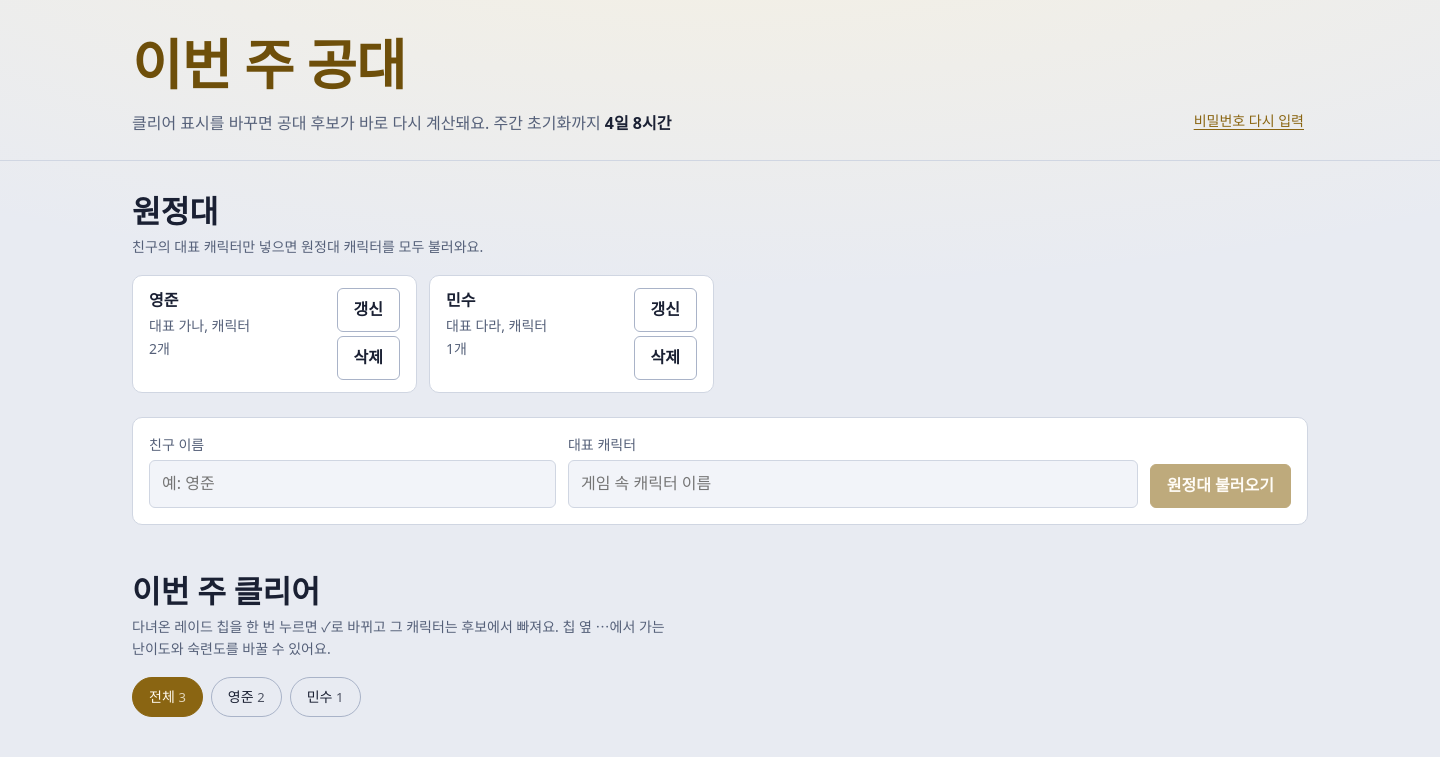
이번 주 클리어 친구 필터 › 새로 등록한 친구도 칩이 생기고, 선택한 친구를 삭제하면 전체로 돌아간다
Type "철수" into the field with placeholder "예: 영준". click: {"x": 352, "y": 484}
box: left=149, top=460, right=556, bottom=508
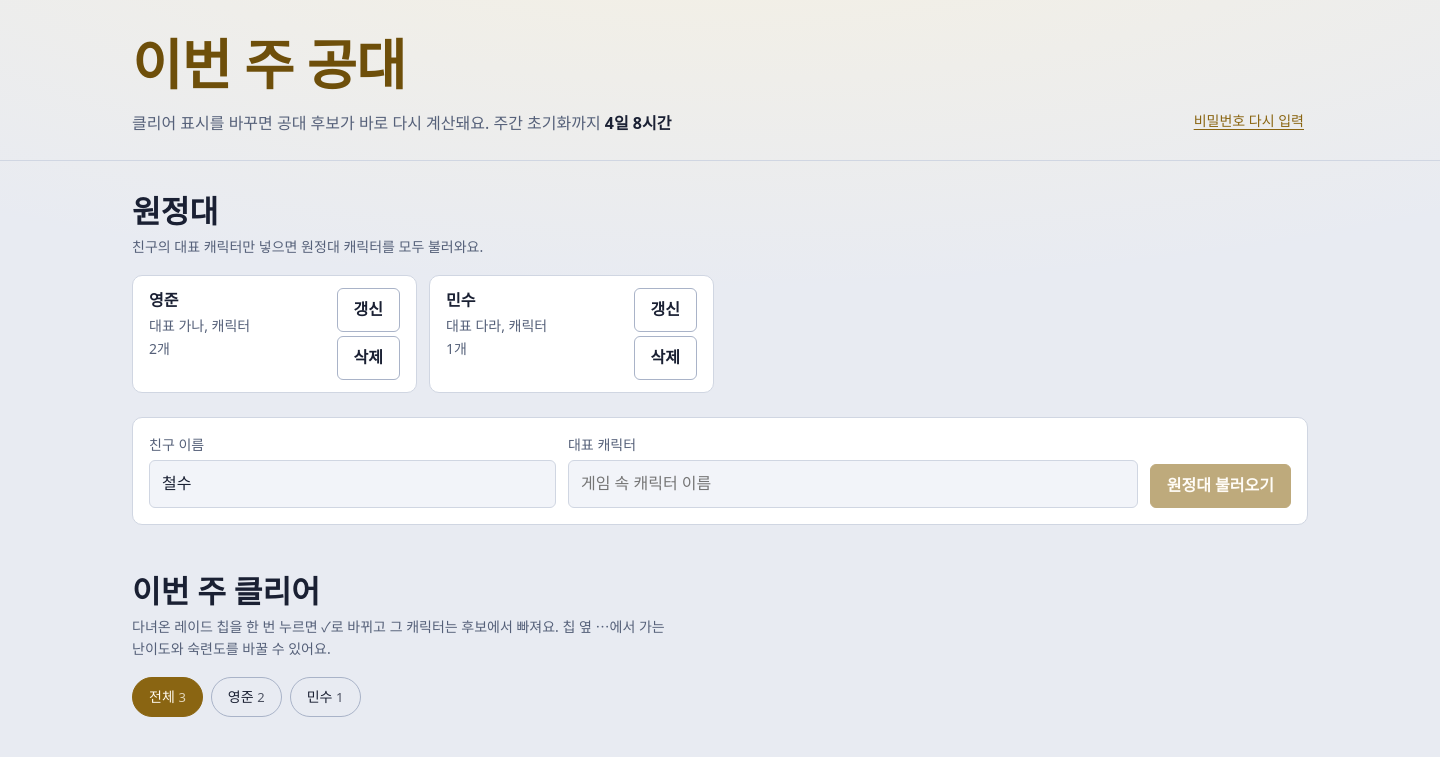
Type "마바" into the field with placeholder "게임 속 캐릭터 이름". click: {"x": 853, "y": 484}
box: left=568, top=460, right=1138, bottom=508
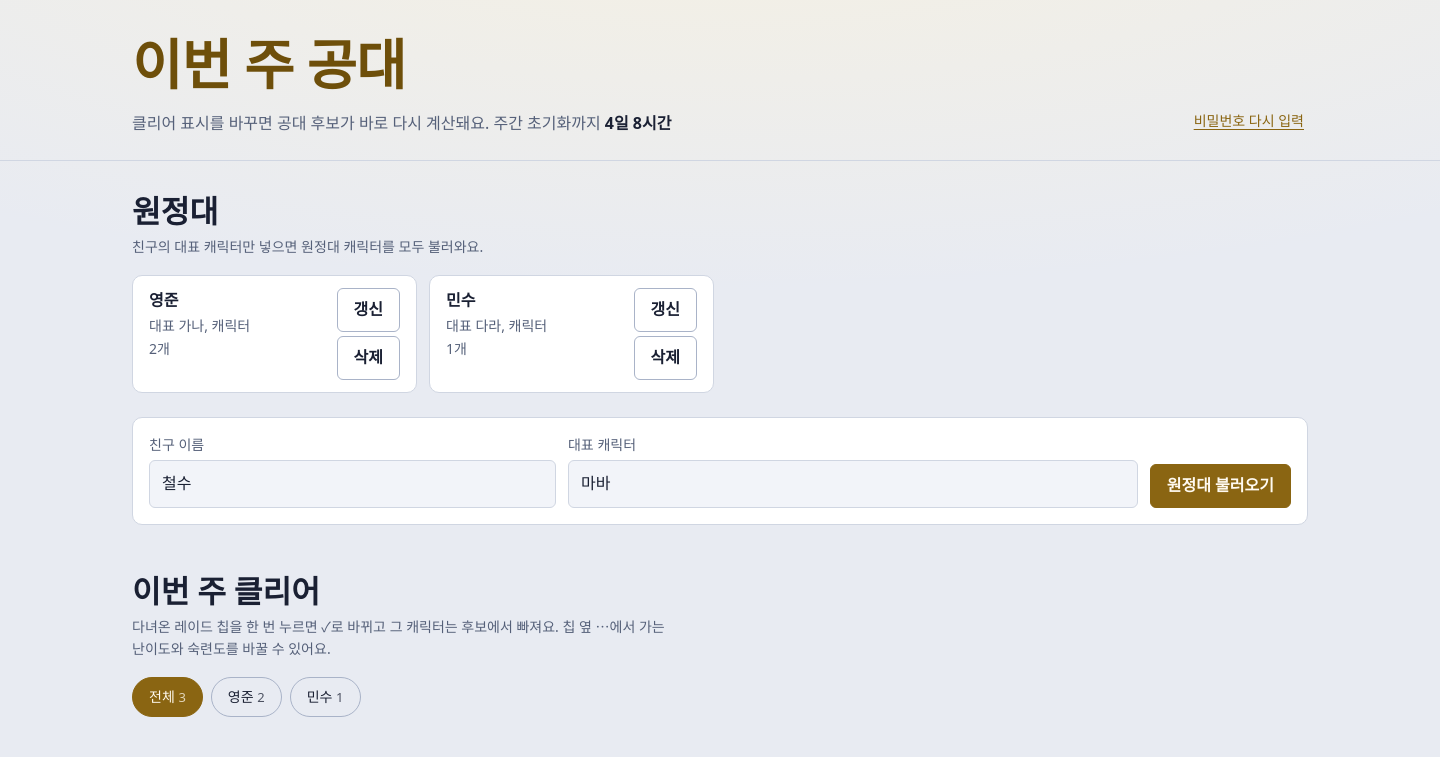
Click the button "원정대 불러오기". click: {"x": 1220, "y": 486}
box: left=1150, top=464, right=1291, bottom=508
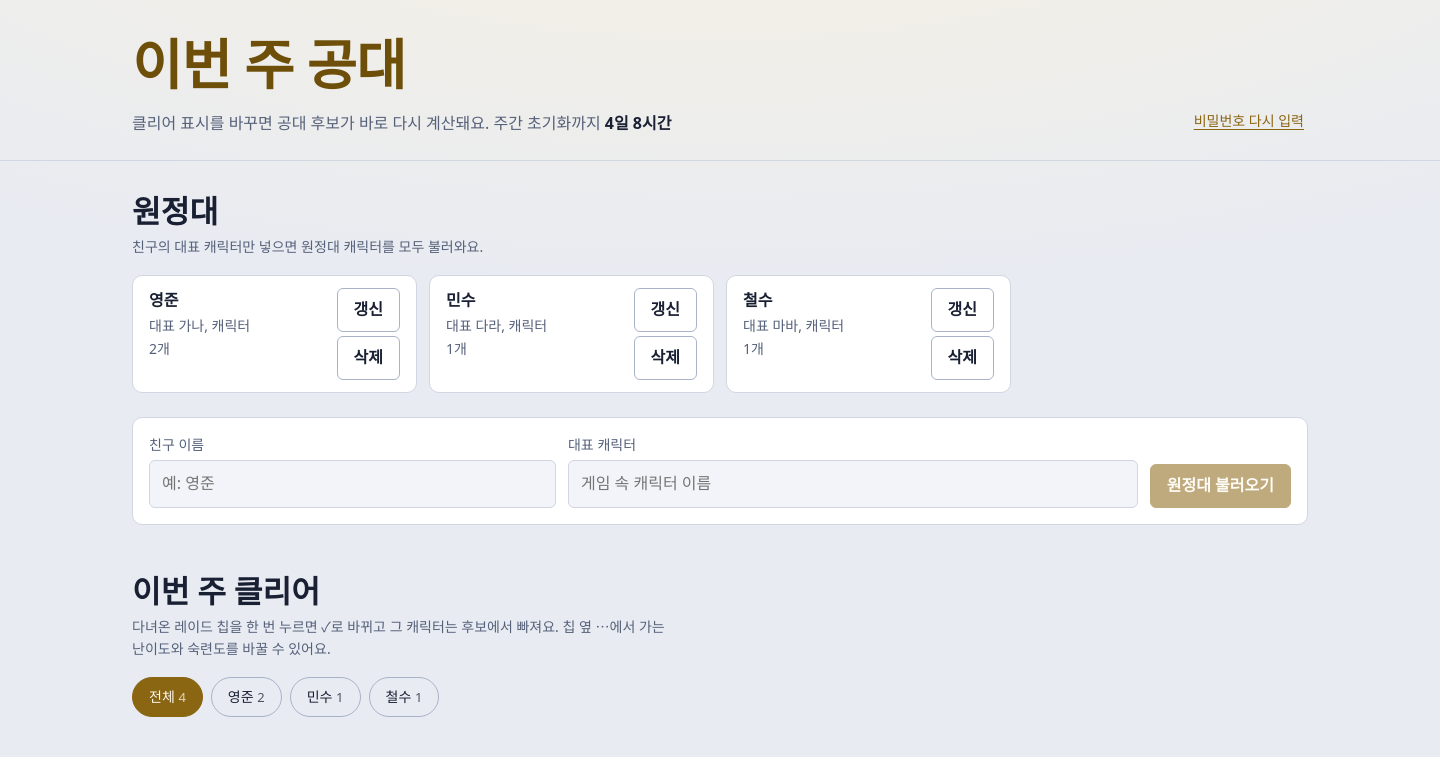
Check: the button "철수 1" is shown, box left=368, top=676, right=439, bottom=717
Click the button "영준 2". click: {"x": 246, "y": 697}
box: left=211, top=676, right=282, bottom=717
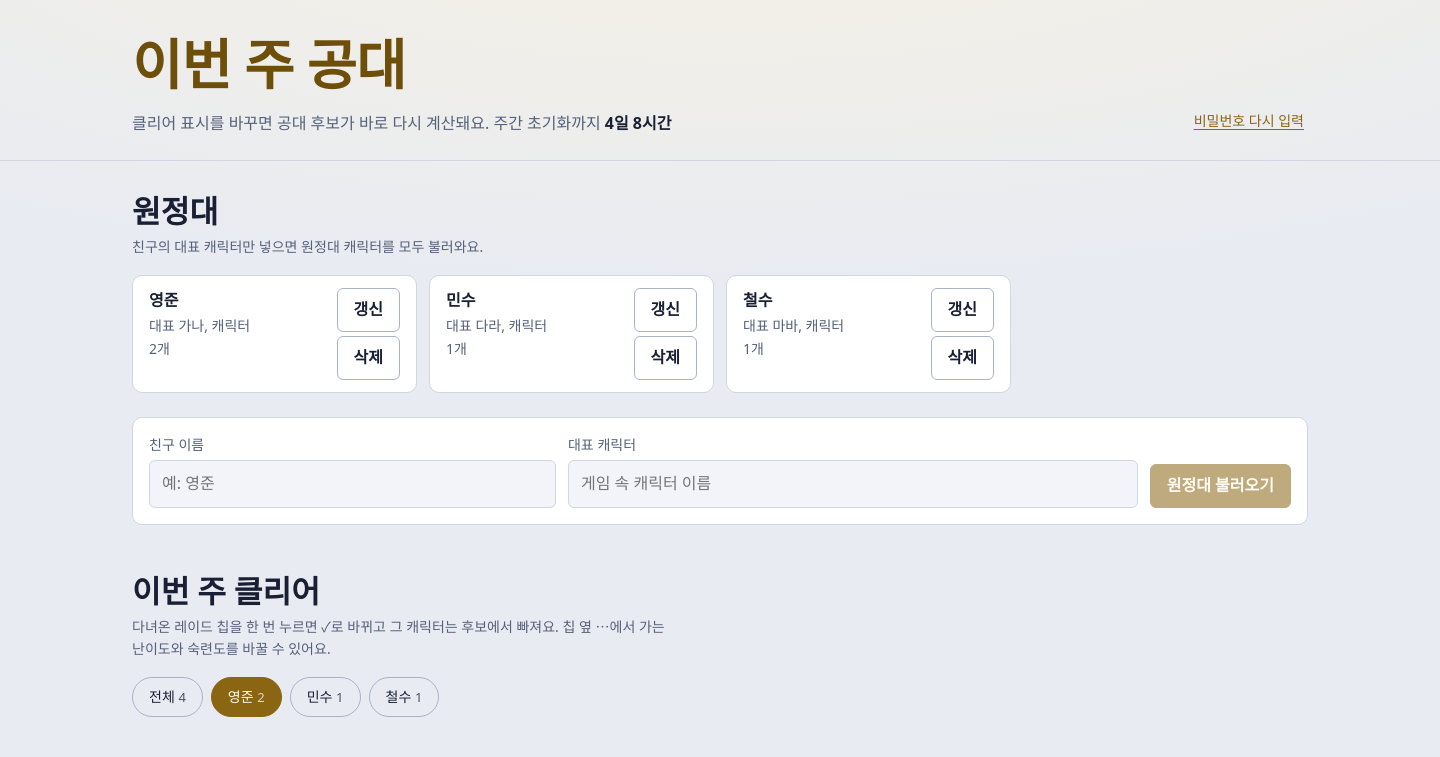
Click the button with aria-label "영준 삭제". click: {"x": 368, "y": 358}
box: left=336, top=336, right=400, bottom=380
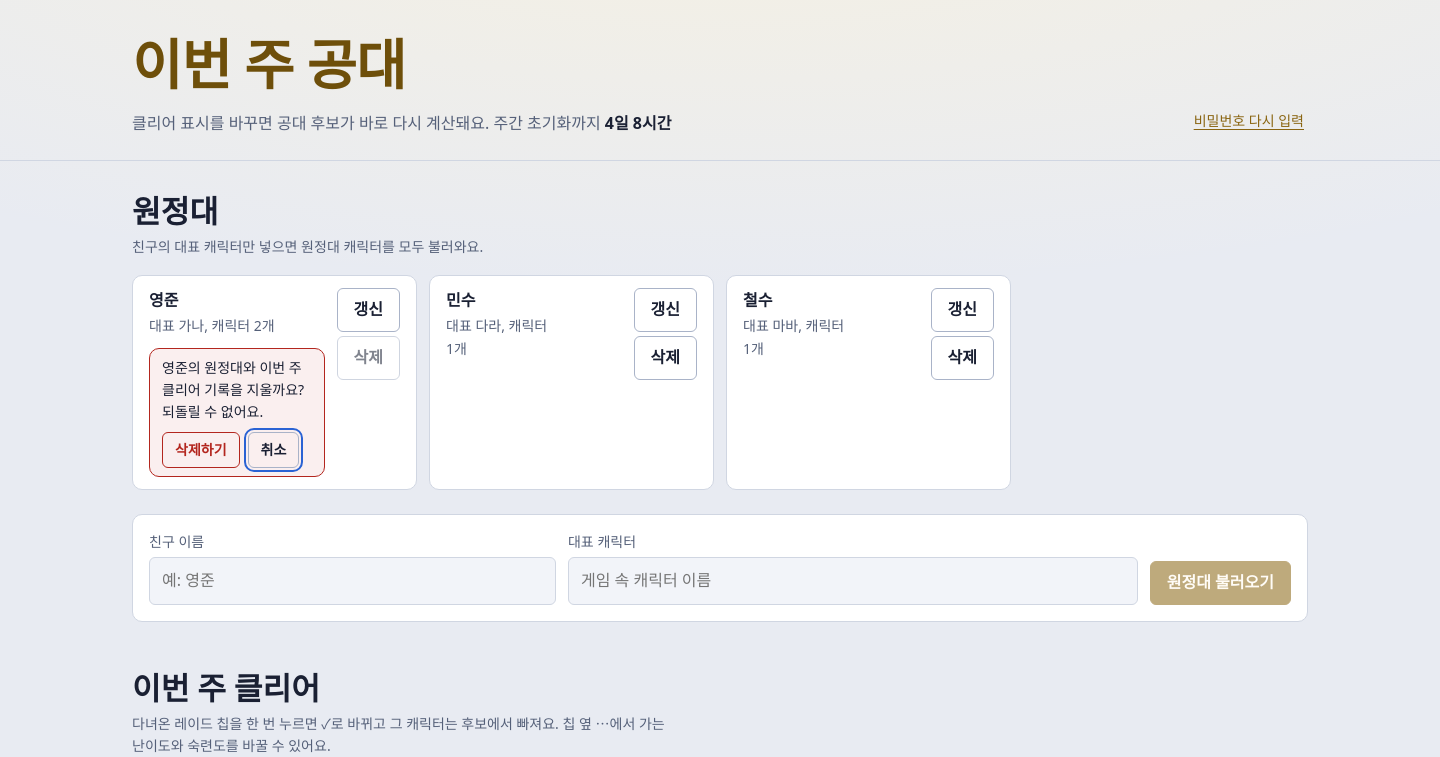
Click the button "삭제하기". click: {"x": 201, "y": 450}
box: left=162, top=432, right=240, bottom=468
(page scrolled)
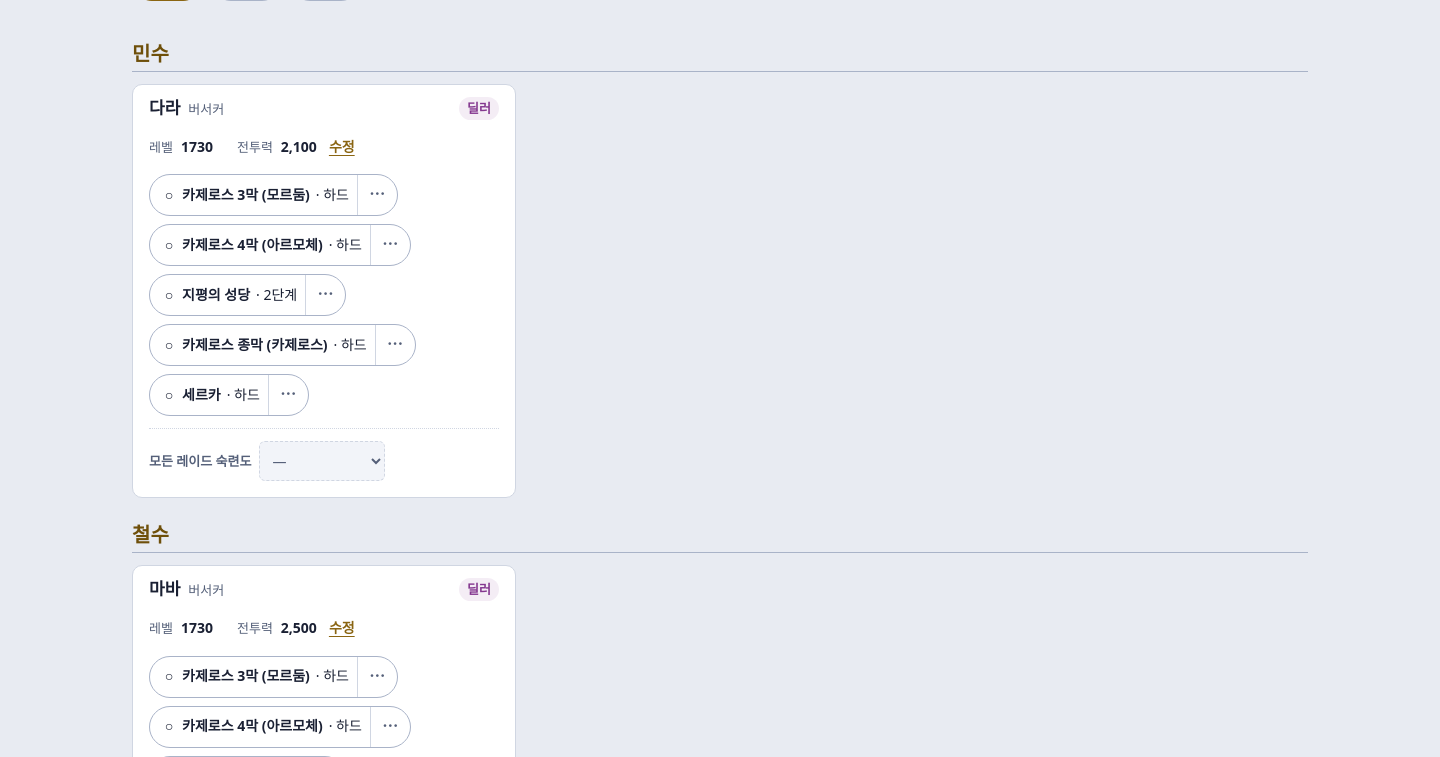
Check: the text "영준" is gone
